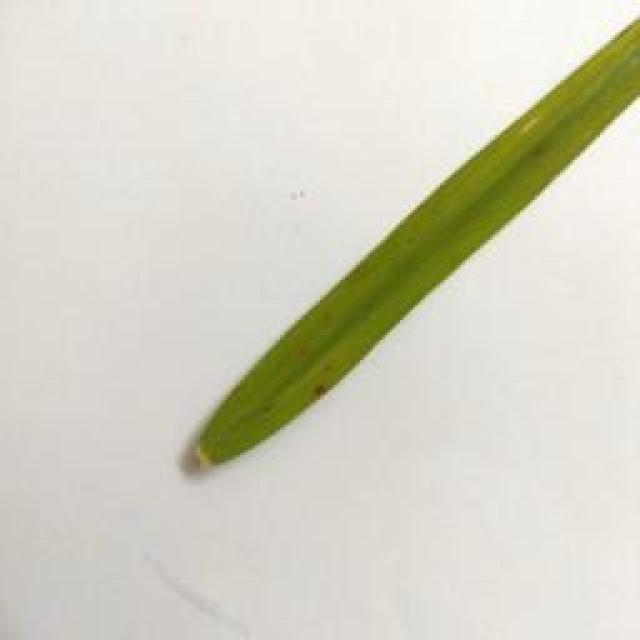Brown_Spot: (308, 376, 336, 398), (534, 142, 556, 166)
